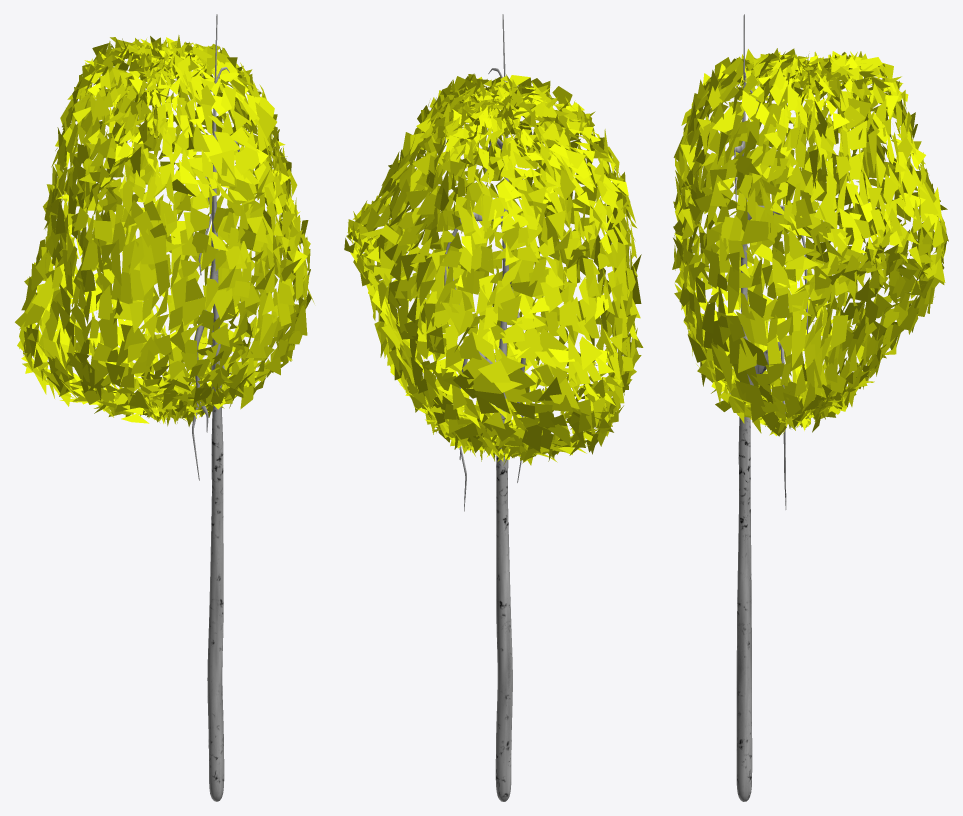
Rendered from Leaves52.002.fbx.
The picture shows the model from 3 angles, left to right: view 1: azimuth 30°, elevation 25°; view 2: azimuth 150°, elevation 25°; view 3: azimuth 270°, elevation 25°; orthographic projection.
Visible parts, largest first — view 1: Leaves52.002; view 2: Leaves52.002; view 3: Leaves52.002.
Part boxes in pixels (box(x1,y1,x2,y2)): Leaves52.002: box(15, 14, 314, 801); Leaves52.002: box(344, 14, 643, 801); Leaves52.002: box(672, 14, 948, 801).
Size of the model in its own units: 903 by 2574 by 820.
2 materials, 1 textured.
